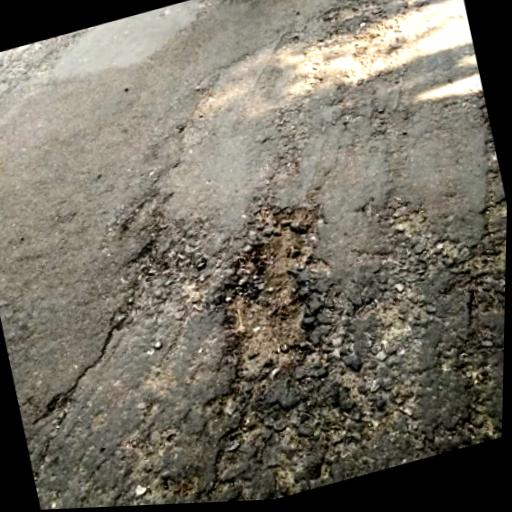pothole: (194, 188, 362, 390), (125, 219, 216, 305)
